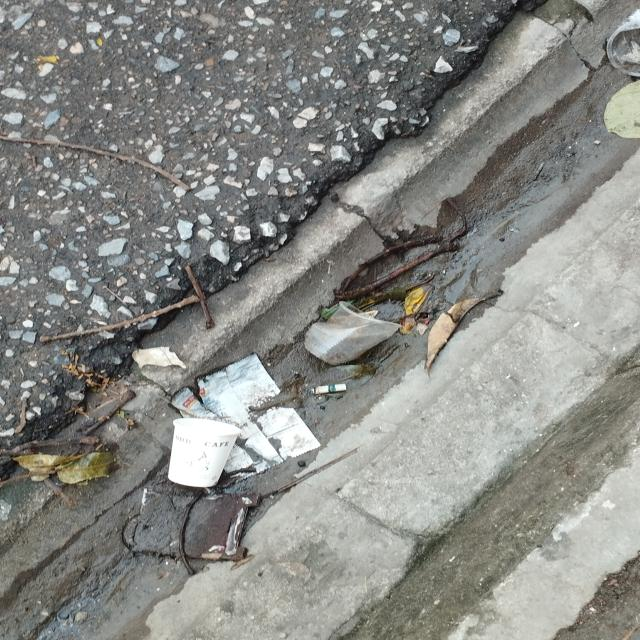paper: (163, 418, 241, 488)
